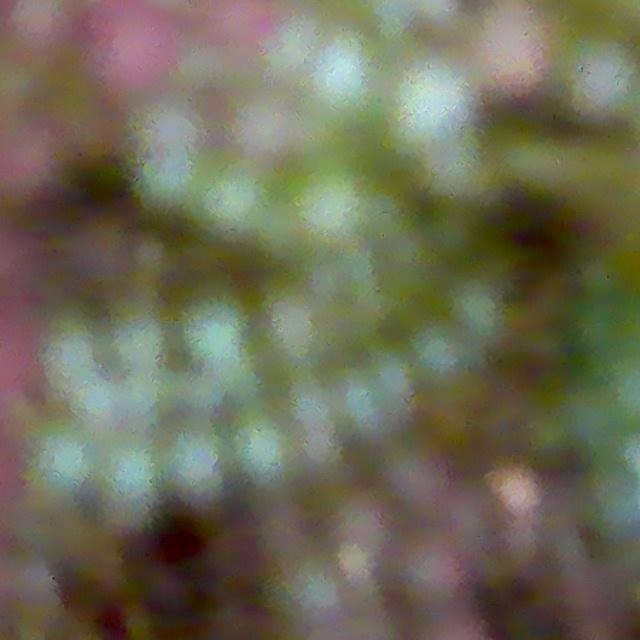SeaGrape: (79, 4, 176, 107), (299, 35, 389, 131), (282, 164, 373, 257), (388, 54, 481, 143), (187, 151, 267, 235), (387, 536, 465, 615), (569, 37, 636, 127), (265, 294, 337, 367), (120, 148, 203, 210), (33, 426, 94, 510), (418, 140, 491, 210), (367, 343, 419, 441), (290, 387, 344, 478), (174, 296, 235, 372), (233, 93, 299, 158), (130, 87, 194, 154), (232, 414, 291, 486), (411, 328, 478, 389), (98, 439, 160, 504), (38, 328, 103, 389), (163, 428, 220, 495), (269, 19, 316, 86), (339, 361, 372, 441), (115, 322, 165, 374), (455, 285, 498, 339)
